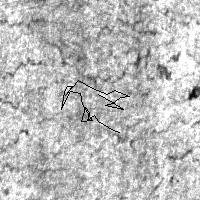crazing: (1, 4, 182, 72), (1, 97, 156, 174), (1, 43, 154, 112), (61, 80, 129, 132), (127, 118, 200, 163)
